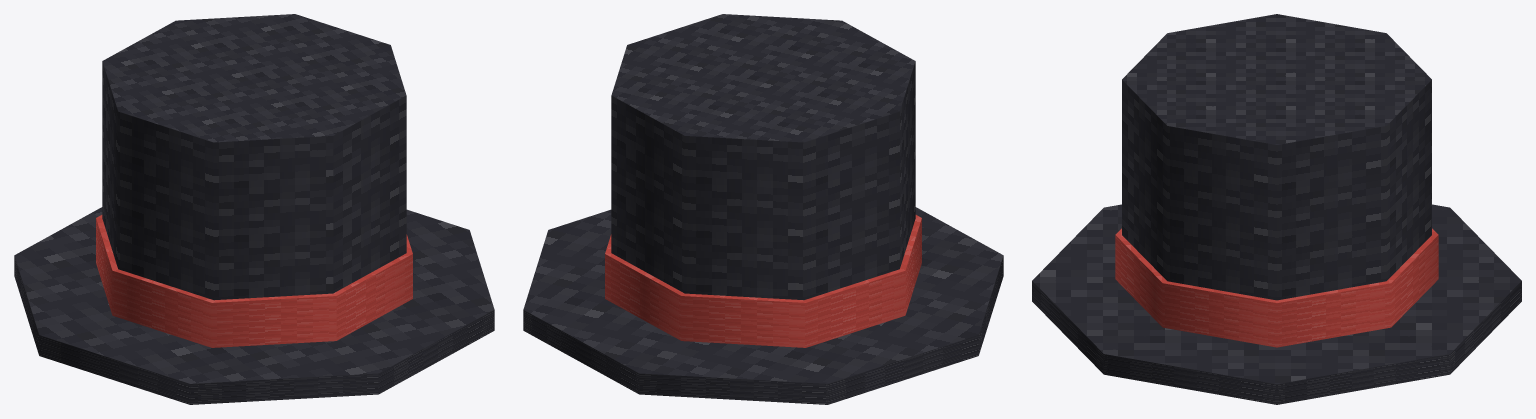
File: sombrero_de_copa.glb
3 views of the same model, side by side, from view 1: azimuth 30°, elevation 25°; view 2: azimuth 150°, elevation 25°; view 3: azimuth 270°, elevation 25° (orthographic).
Parts seen in each view (by area): view 1: _MeshInstance3D_9, _MeshInstance3D_8, _MeshInstance3D_10; view 2: _MeshInstance3D_9, _MeshInstance3D_8, _MeshInstance3D_10; view 3: _MeshInstance3D_9, _MeshInstance3D_8, _MeshInstance3D_10.
Boxes of the visible parts, <box> form: _MeshInstance3D_9: <box>102,14,406,300</box>; _MeshInstance3D_8: <box>14,207,494,404</box>; _MeshInstance3D_10: <box>96,215,412,347</box>; _MeshInstance3D_9: <box>611,14,915,300</box>; _MeshInstance3D_8: <box>523,207,1003,404</box>; _MeshInstance3D_10: <box>605,215,921,347</box>; _MeshInstance3D_9: <box>1122,14,1431,300</box>; _MeshInstance3D_8: <box>1032,204,1521,404</box>; _MeshInstance3D_10: <box>1115,228,1438,347</box>.
Size of the model in its own units: 0.3 by 0.15 by 0.3.
2 materials, 2 textured.
